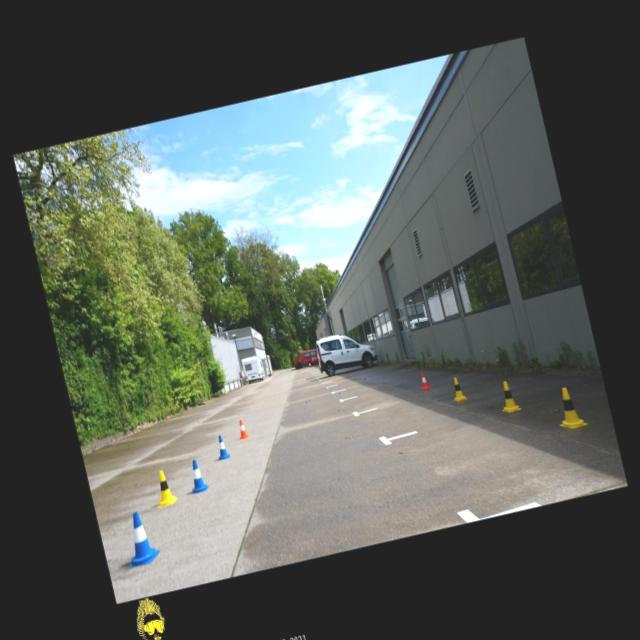blue_cone: (116, 508, 162, 568), (183, 457, 210, 494), (212, 434, 230, 461)
orange_cone: (235, 418, 249, 440), (418, 370, 431, 391)
yellow_cone: (551, 384, 588, 431), (149, 467, 178, 507), (494, 378, 522, 414), (448, 374, 468, 402)
